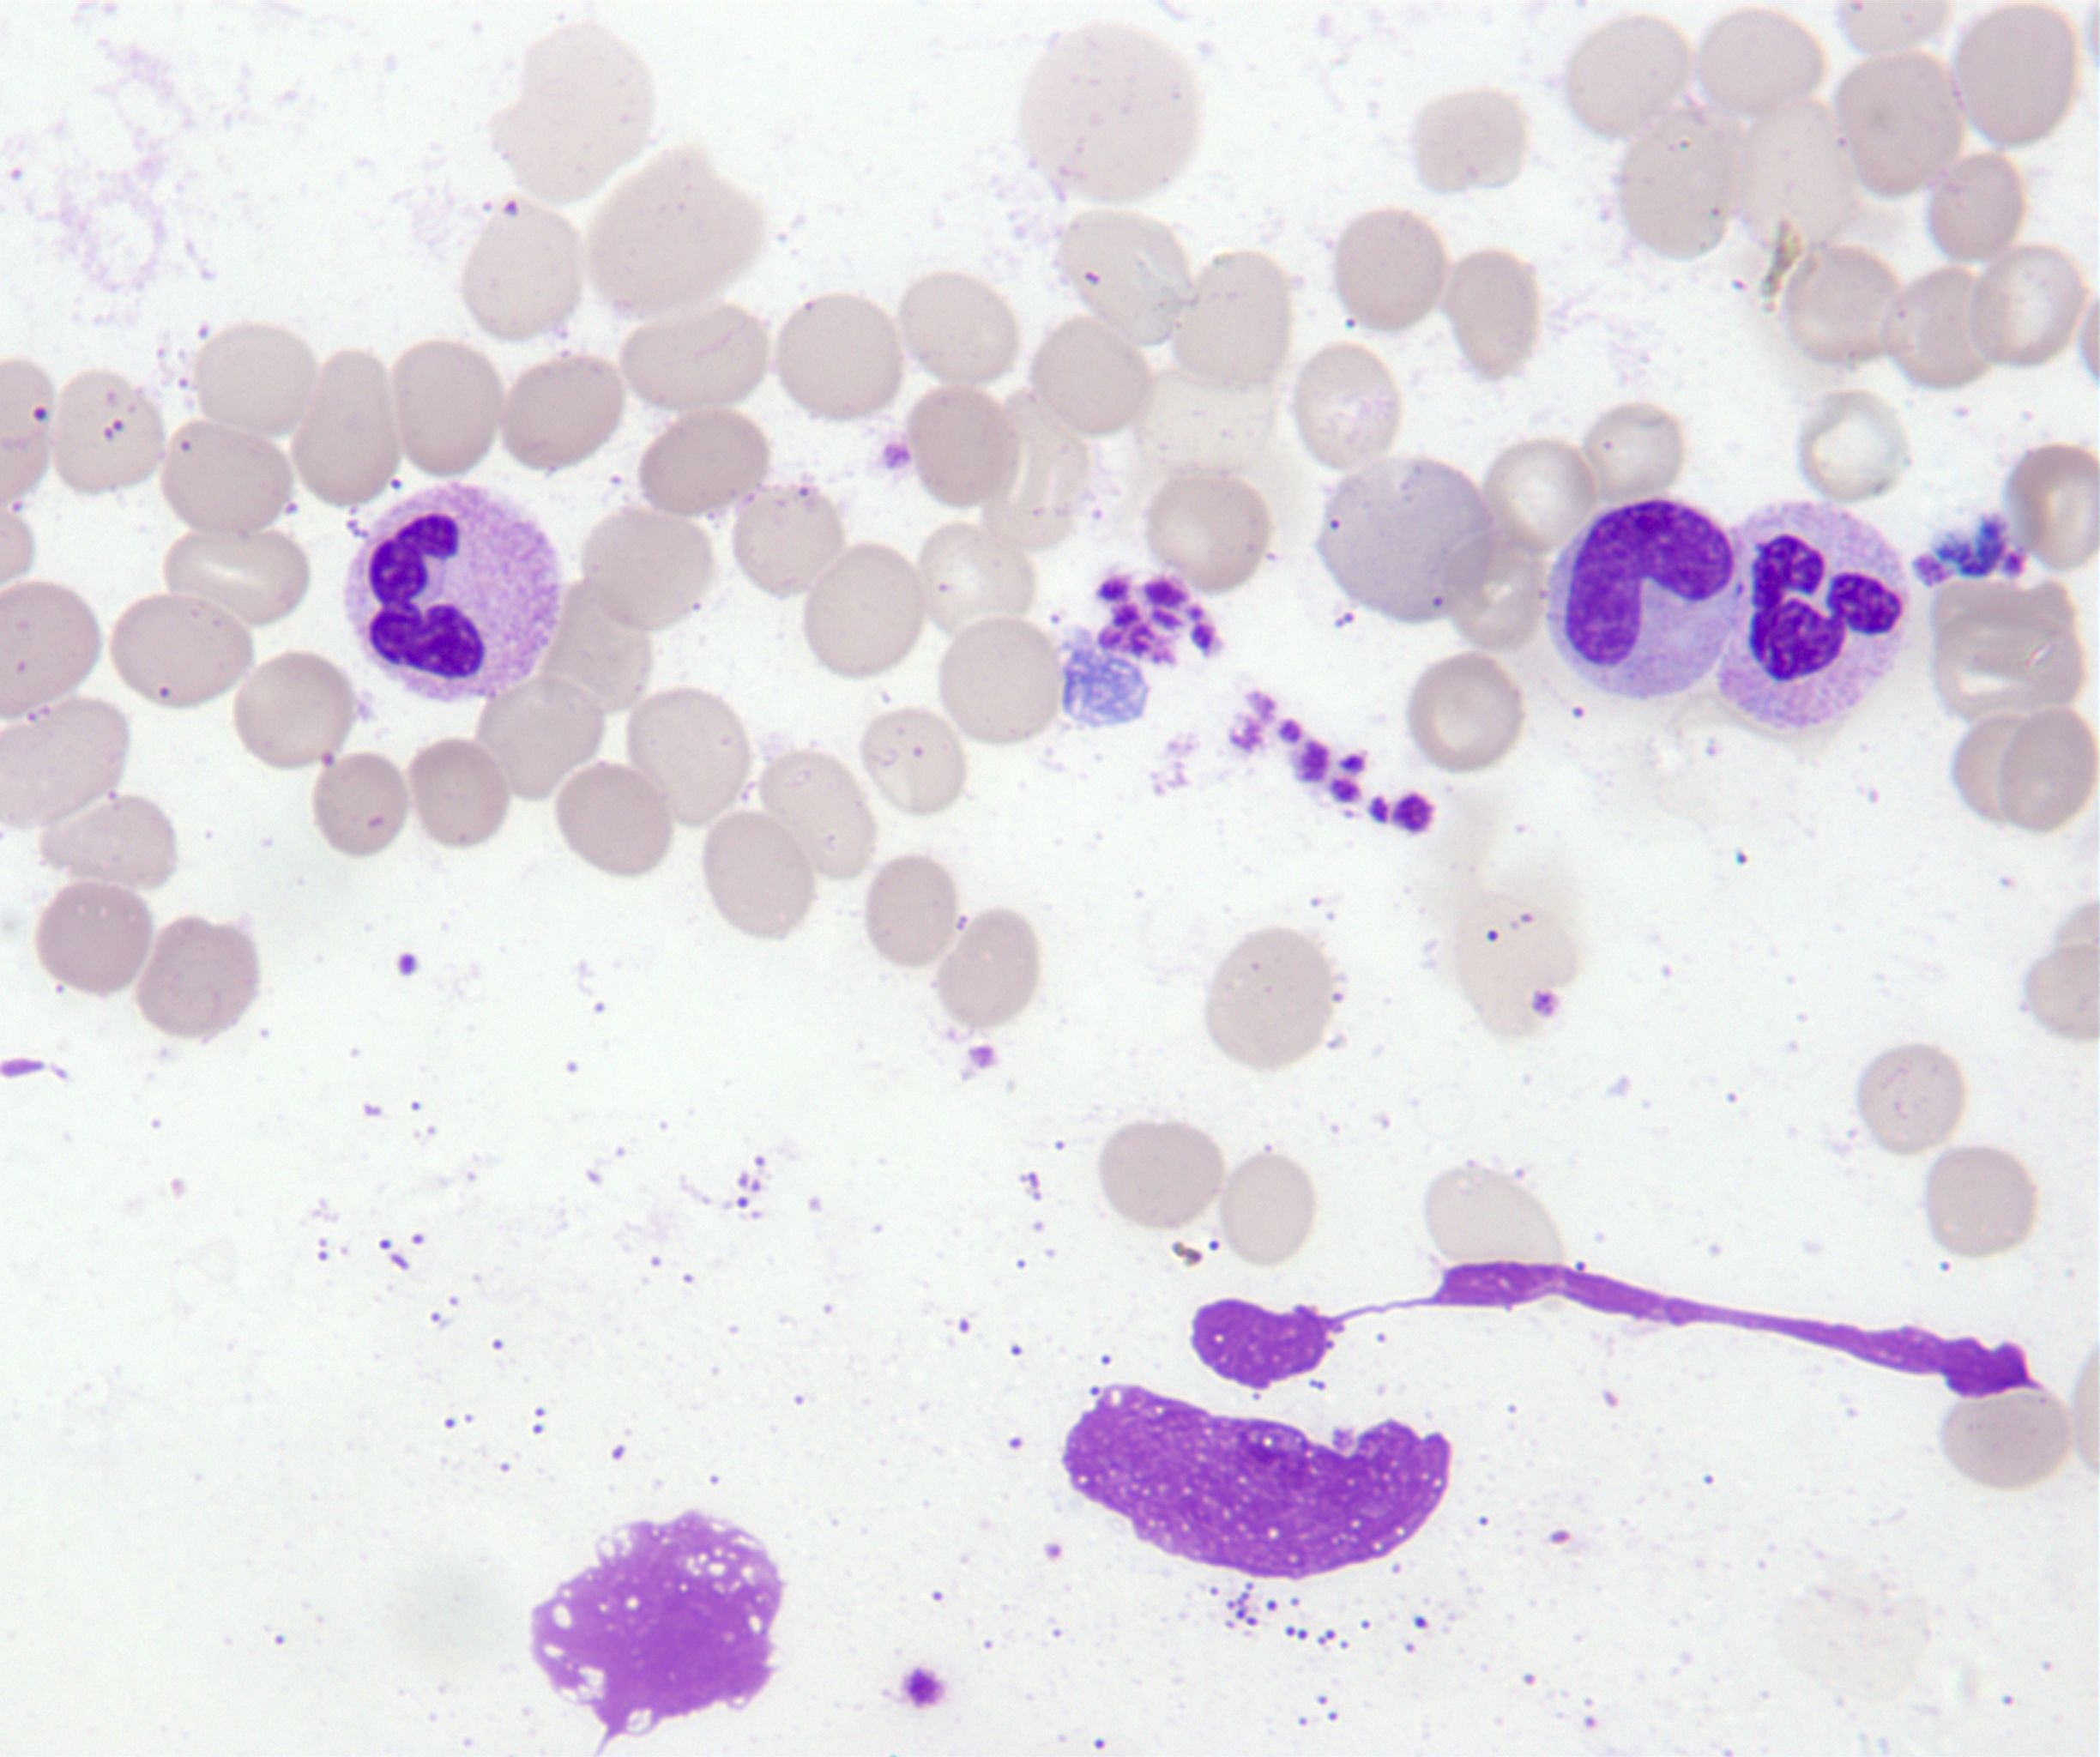4: (1545, 501, 1735, 700)
6: (345, 483, 562, 703), (1720, 504, 1910, 731)
x: (1190, 1263, 2053, 1399), (1064, 1385, 1451, 1581), (530, 1509, 783, 1757)
